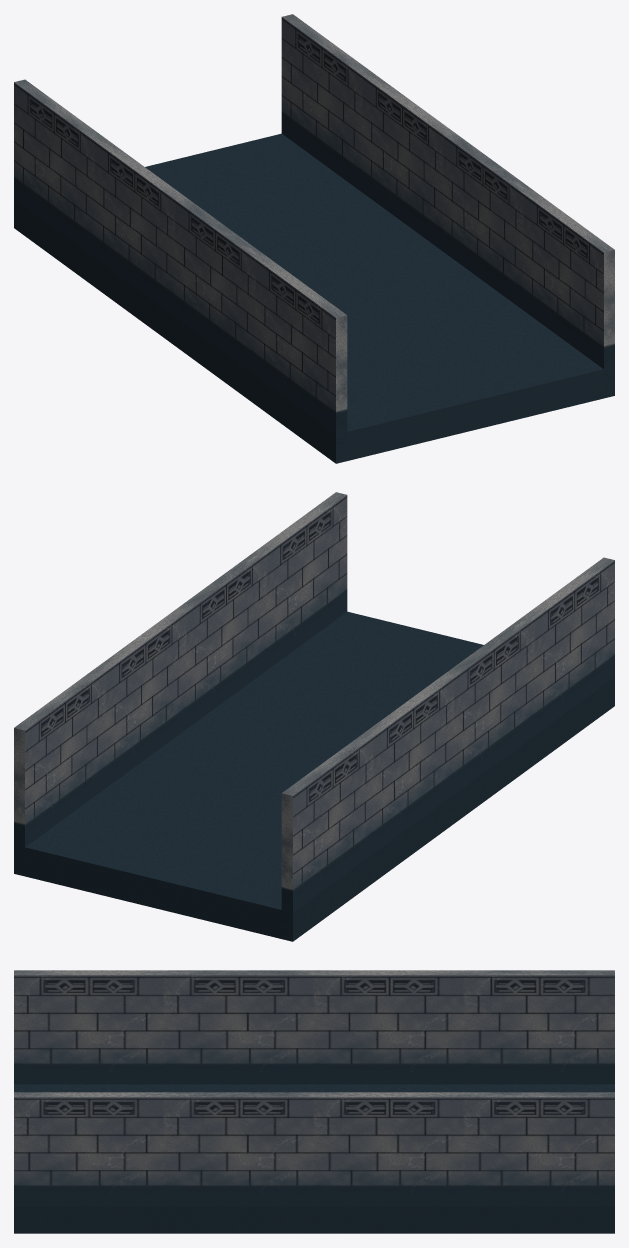
Rendered from RoadTemplate2.fbx.
The picture shows the model from 3 angles, top to bottom: view 1: azimuth 30°, elevation 25°; view 2: azimuth 150°, elevation 25°; view 3: azimuth 270°, elevation 25°; orthographic projection. The views are drawn at different scales.
Parts seen in each view (by area): view 1: pCube7; view 2: pCube7; view 3: pCube7.
Part boxes in pixels (<box>): pCube7: <box>14,14,614,463</box>; pCube7: <box>14,492,614,941</box>; pCube7: <box>14,970,614,1233</box>.
Bounding box in the file's own units: 50 × 25 × 100.
Materials: 1 (1 with a texture image).
